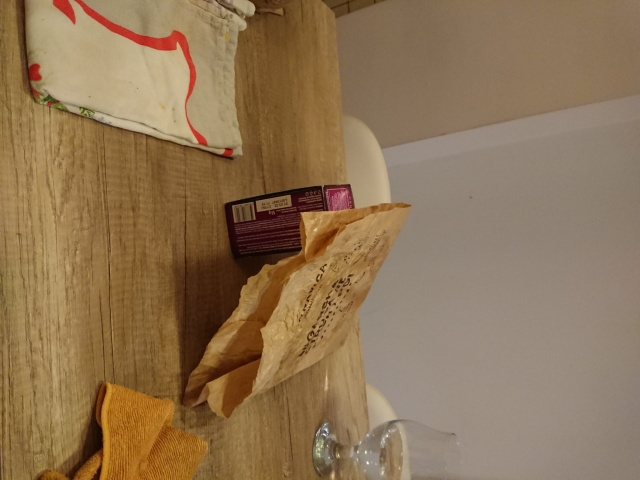Franck Black Currant Tea 60g: (222, 181, 362, 261)
